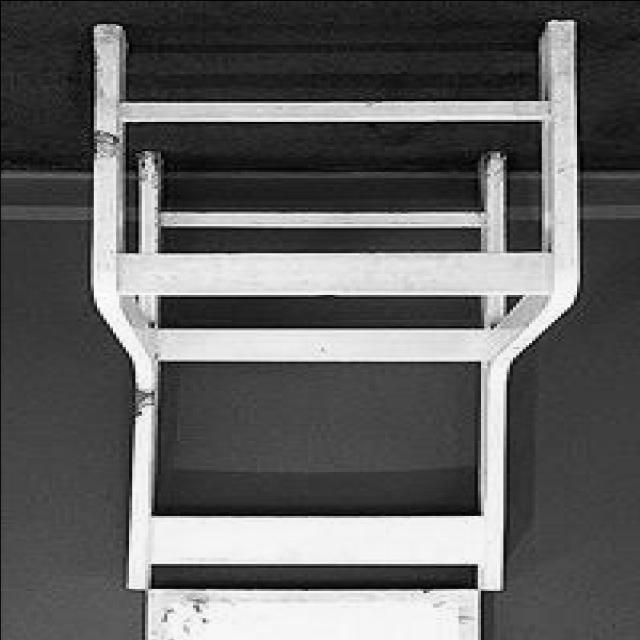chair: (88, 22, 588, 639)
